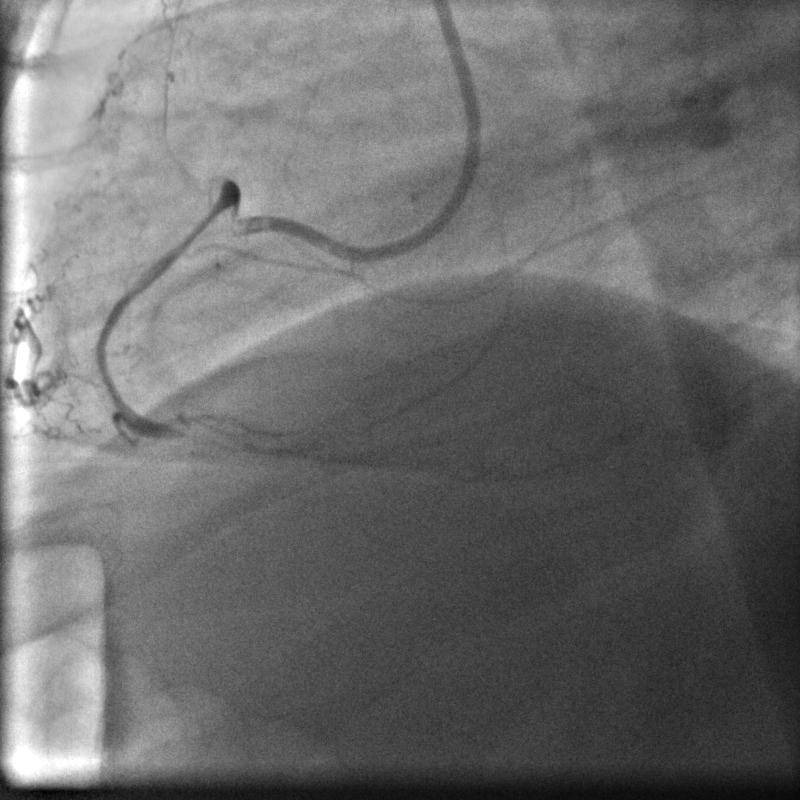Stenosis: (160, 419, 221, 445)
